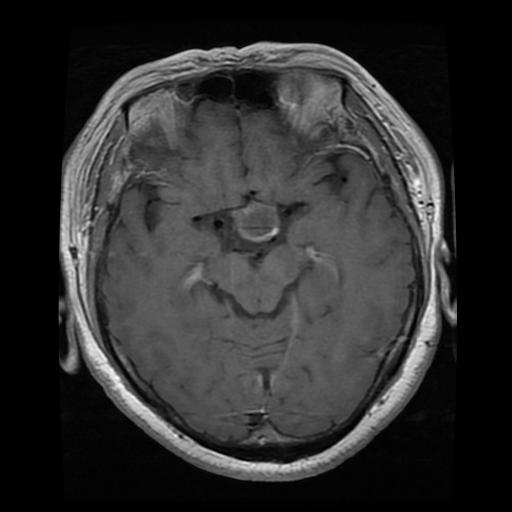Pituirity_tumour: (233, 200, 280, 241)
